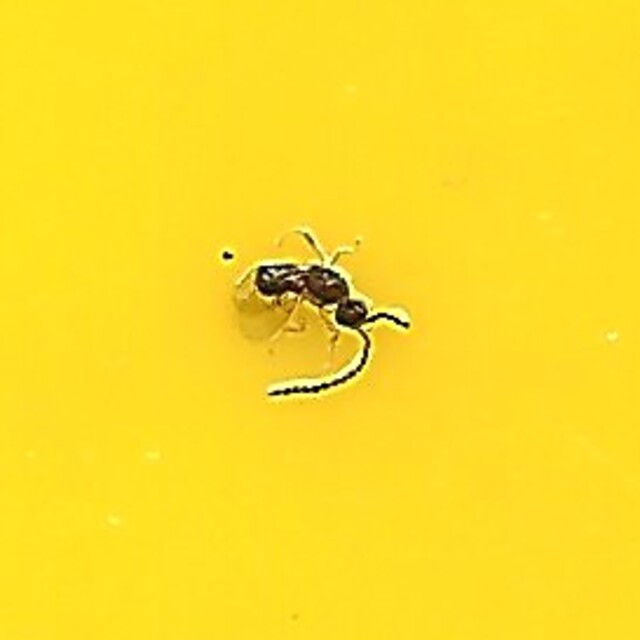Hymenoptera: (234, 235, 406, 405)
